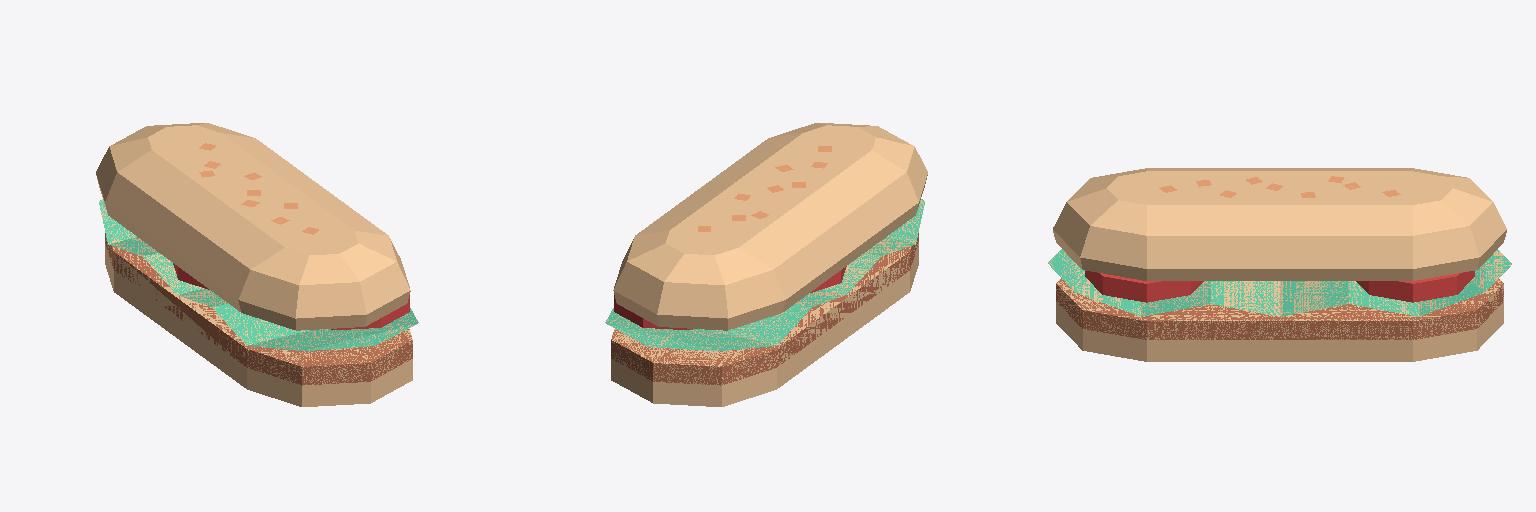
The picture shows the model from 3 angles: view 1: azimuth 30°, elevation 25°; view 2: azimuth 150°, elevation 25°; view 3: azimuth 270°, elevation 25°; orthographic projection.
Visible parts, largest first — view 1: sub, meat, lettuce; view 2: sub, meat, lettuce; view 3: sub, meat, lettuce, tomaties.
Boxes of the visible parts, x1,y1,x2,y2 form: sub: [96, 123, 412, 406]; meat: [105, 233, 412, 385]; lettuce: [99, 199, 418, 350]; sub: [611, 123, 927, 406]; meat: [611, 233, 918, 385]; lettuce: [605, 199, 924, 350]; sub: [1053, 168, 1506, 361]; meat: [1056, 278, 1503, 339]; lettuce: [1048, 249, 1511, 316]; tomaties: [1085, 271, 1474, 302].
Size of the model in its own units: 0.2827 by 0.2125 by 0.6756.